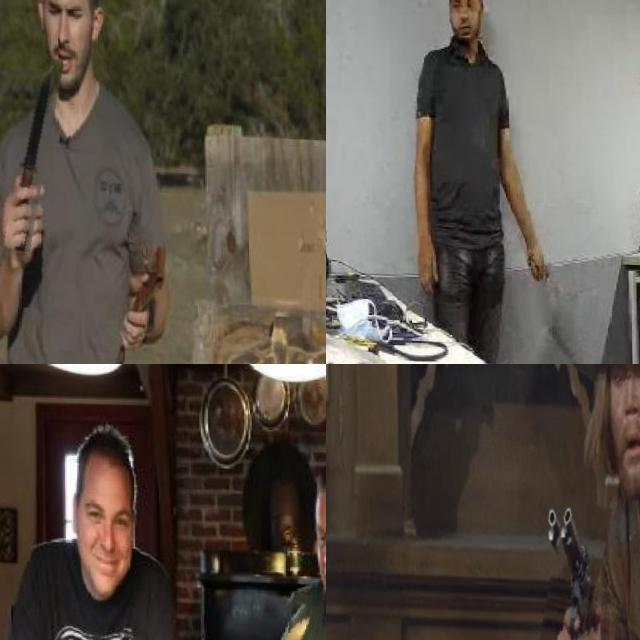-: (0, 50, 56, 250), (231, 591, 313, 640), (535, 264, 577, 304)
gun-knife-thesis - v11 Yolov5 augmented: (535, 496, 604, 640)
